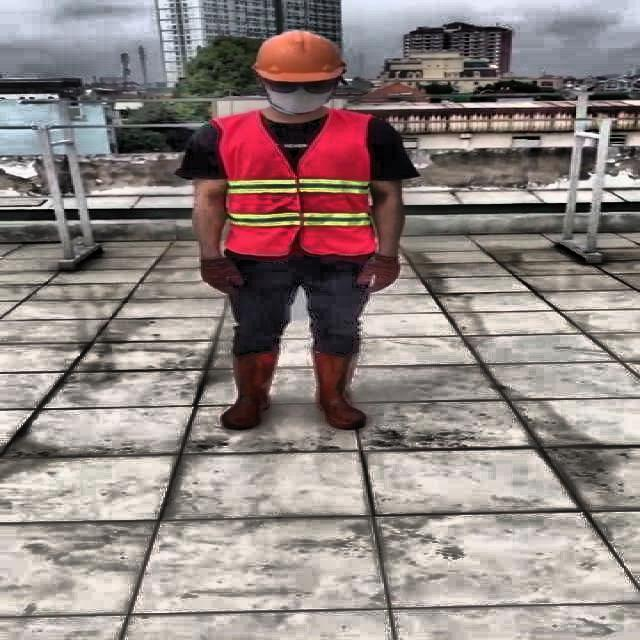safety_helmet: (251, 28, 352, 86)
safety_jacket: (219, 110, 377, 255)
